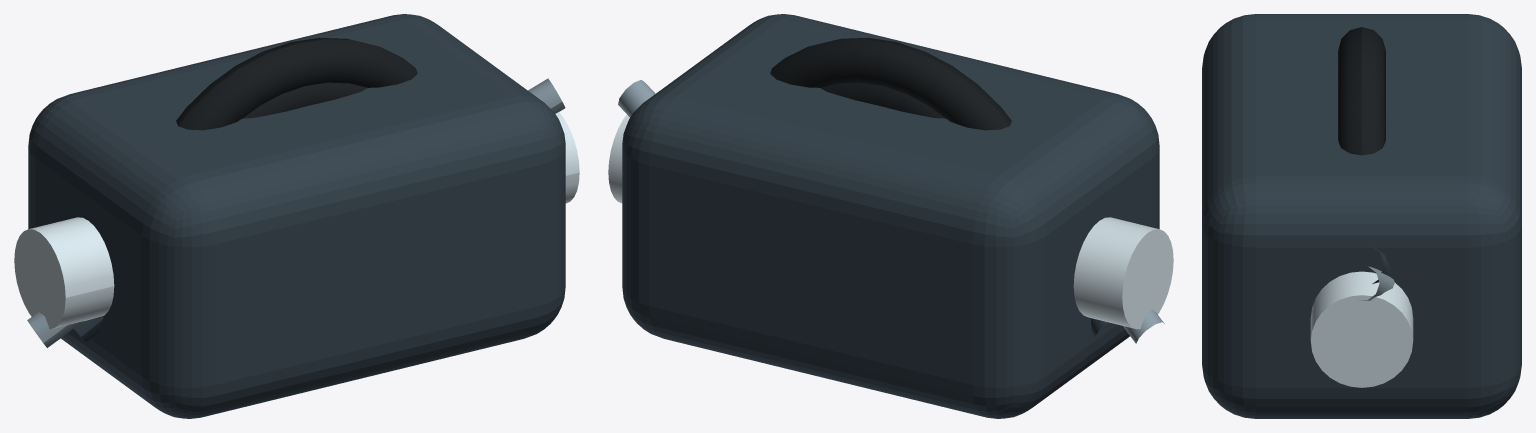
File: g4ed_exhaust_emissions.glb
3 renders of one model, left to right at view 1: azimuth 30°, elevation 25°; view 2: azimuth 150°, elevation 25°; view 3: azimuth 270°, elevation 25°, orthographic.
Visible parts, largest first — view 1: asset_mesh__g4ed_272__reference_body, asset_mesh__g4ed_279__reference_seal, asset_mesh__g4ed_272__reference_axis, asset_mesh__g4ed_269__reference_seal, asset_mesh__g4ed_285__reference_flow_path; view 2: asset_mesh__g4ed_272__reference_body, asset_mesh__g4ed_279__reference_seal, asset_mesh__g4ed_272__reference_axis, asset_mesh__g4ed_269__reference_seal, asset_mesh__g4ed_285__reference_flow_path; view 3: asset_mesh__g4ed_272__reference_body, asset_mesh__g4ed_272__reference_axis, asset_mesh__g4ed_279__reference_seal, asset_mesh__g4ed_285__reference_flow_path.
Boxes of the visible parts, x1,y1,x2,y2 form: asset_mesh__g4ed_272__reference_body: (28, 14, 565, 418); asset_mesh__g4ed_279__reference_seal: (176, 37, 417, 130); asset_mesh__g4ed_272__reference_axis: (14, 112, 579, 329); asset_mesh__g4ed_269__reference_seal: (243, 82, 367, 118); asset_mesh__g4ed_285__reference_flow_path: (27, 78, 565, 347); asset_mesh__g4ed_272__reference_body: (622, 14, 1159, 418); asset_mesh__g4ed_279__reference_seal: (770, 37, 1011, 130); asset_mesh__g4ed_272__reference_axis: (608, 114, 1173, 329); asset_mesh__g4ed_269__reference_seal: (820, 82, 944, 118); asset_mesh__g4ed_285__reference_flow_path: (618, 80, 1164, 343); asset_mesh__g4ed_272__reference_body: (1202, 14, 1521, 418); asset_mesh__g4ed_272__reference_axis: (1310, 271, 1413, 387); asset_mesh__g4ed_279__reference_seal: (1338, 27, 1385, 155); asset_mesh__g4ed_285__reference_flow_path: (1358, 266, 1394, 300).
Size of the model in its own units: 2.06 by 1.27 by 1.07.
